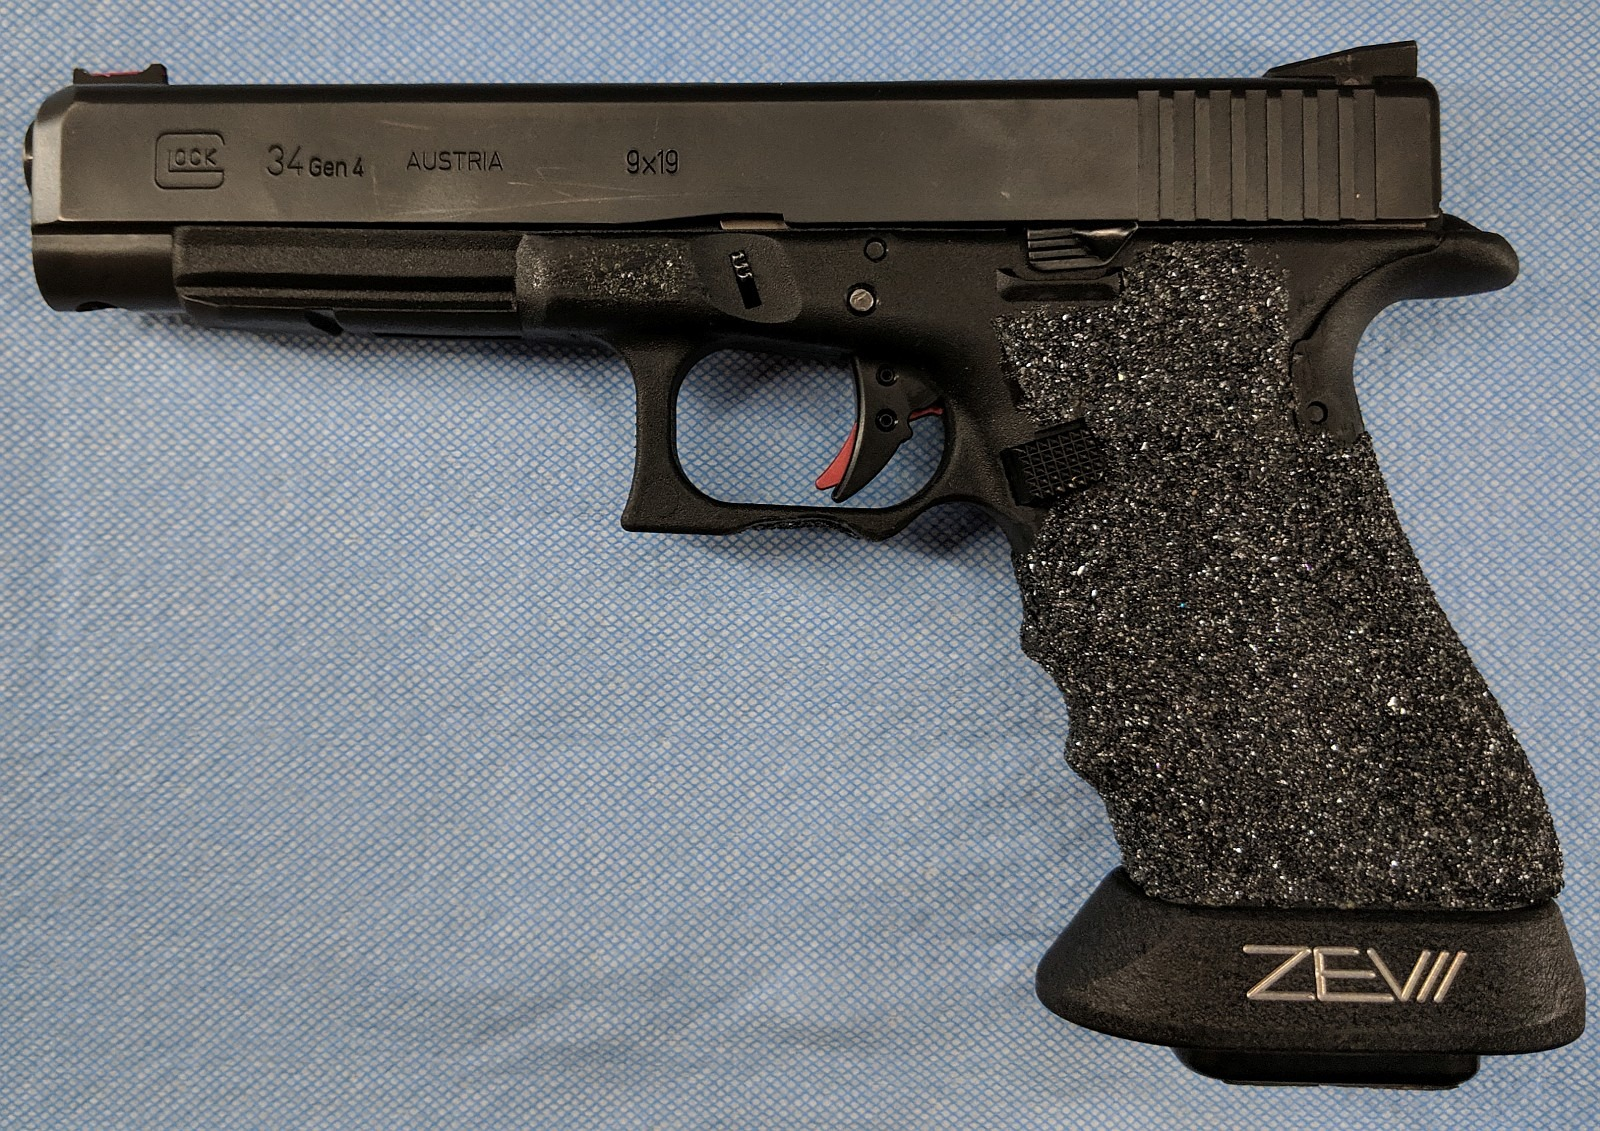gun: (18, 31, 1590, 1096)
